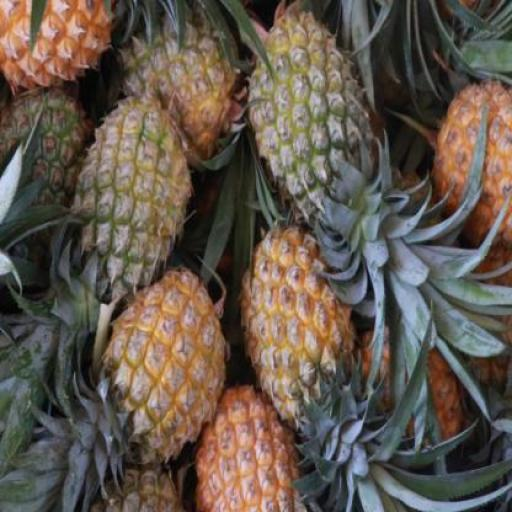------------------------------: (250, 6, 369, 220), (74, 99, 184, 294), (119, 6, 239, 163)
Pineapple - v8 v1: (242, 225, 351, 420), (108, 271, 220, 459), (196, 365, 309, 512)
